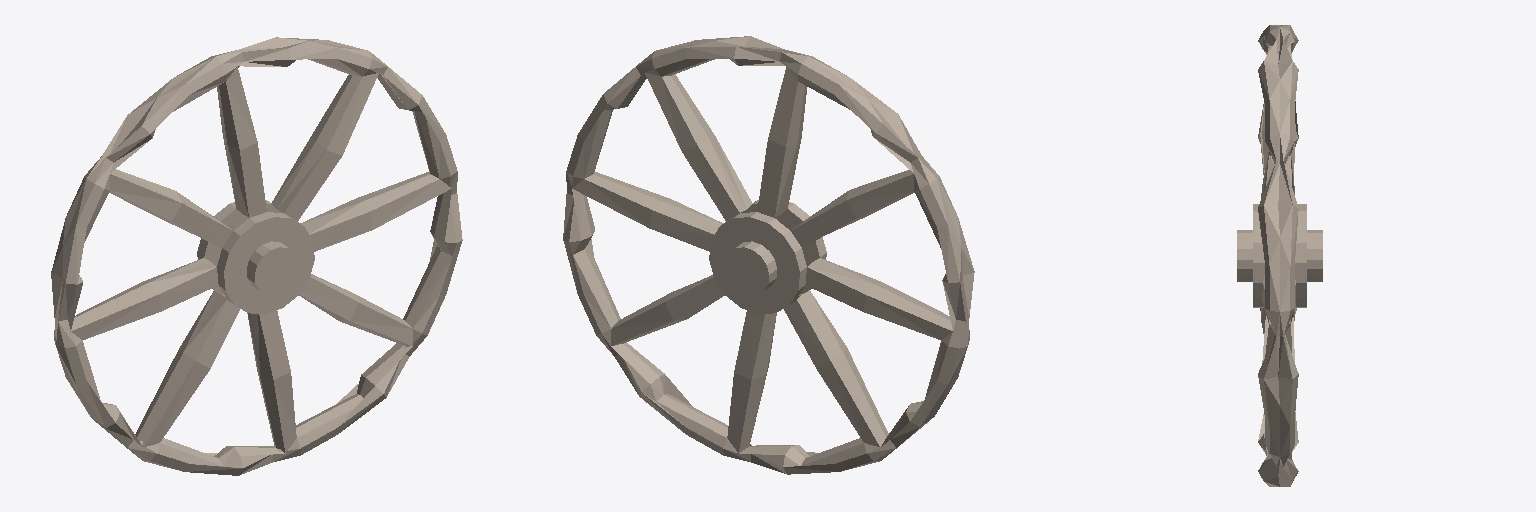
The model's file is BonewheelWheel.obj.
3 views of the same model, side by side, from view 1: azimuth 30°, elevation 25°; view 2: azimuth 150°, elevation 25°; view 3: azimuth 270°, elevation 25° (orthographic).
Parts seen in each view (by area): view 1: pTorus1; view 2: pTorus1; view 3: pTorus1.
Boxes of the visible parts, x1=… form: pTorus1: x1=51, y1=37, x2=462, y2=475; pTorus1: x1=563, y1=36, x2=974, y2=474; pTorus1: x1=1237, y1=25, x2=1322, y2=486.
Size of the model in its own units: 15.59 by 15.59 by 2.89.